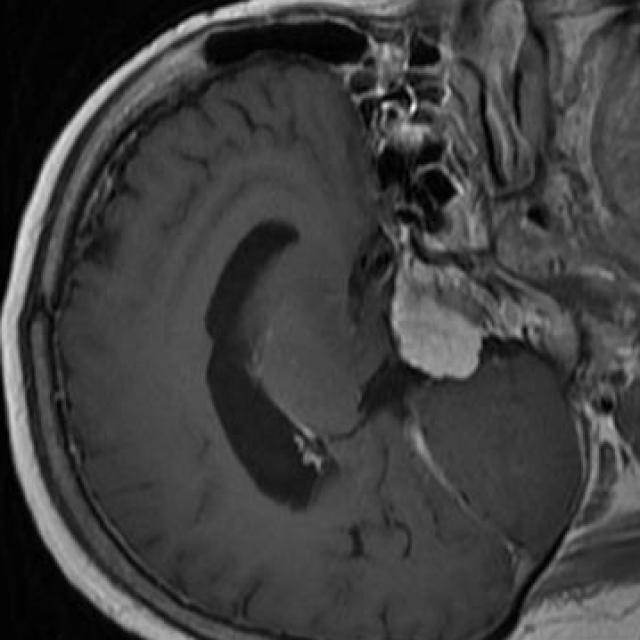meningioma: (389, 262, 483, 382)
